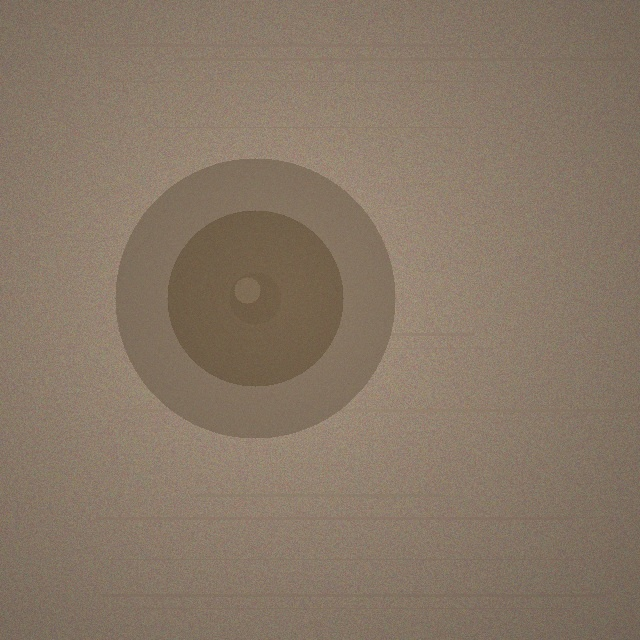good: (115, 158, 395, 438)
